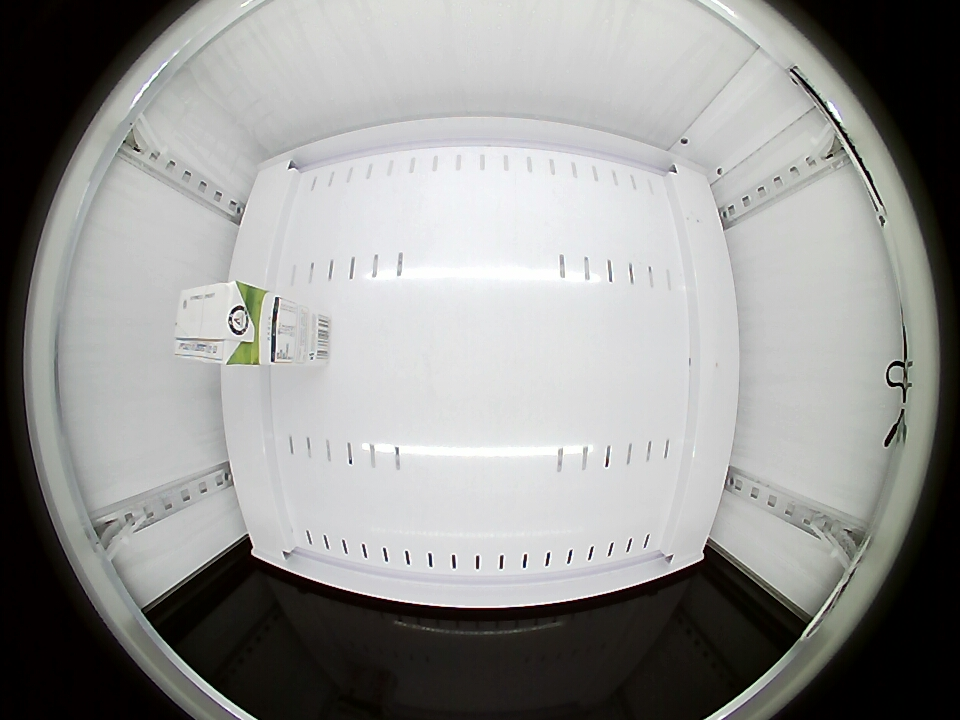mengniu: (174, 281, 261, 366)
